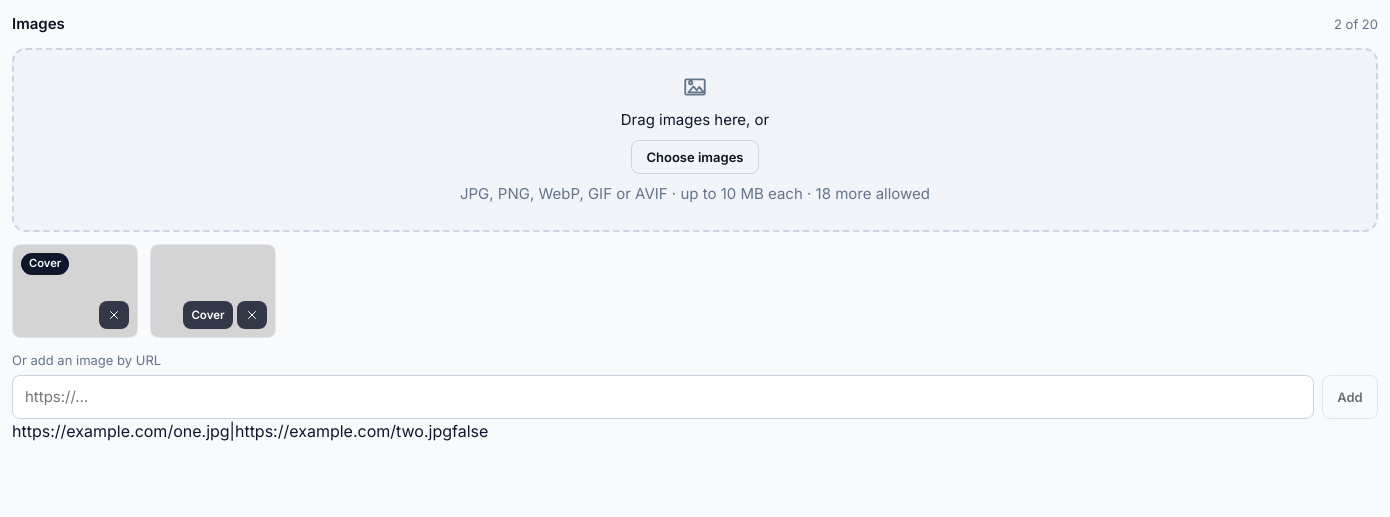
Test: ImageUploader › removes an image and refuses non-HTTPS URLs when adding by URL
This screenshot has width=1390, height=517.
Click the button named "Remove image 1" at (114, 315), box [99,301,129,329]
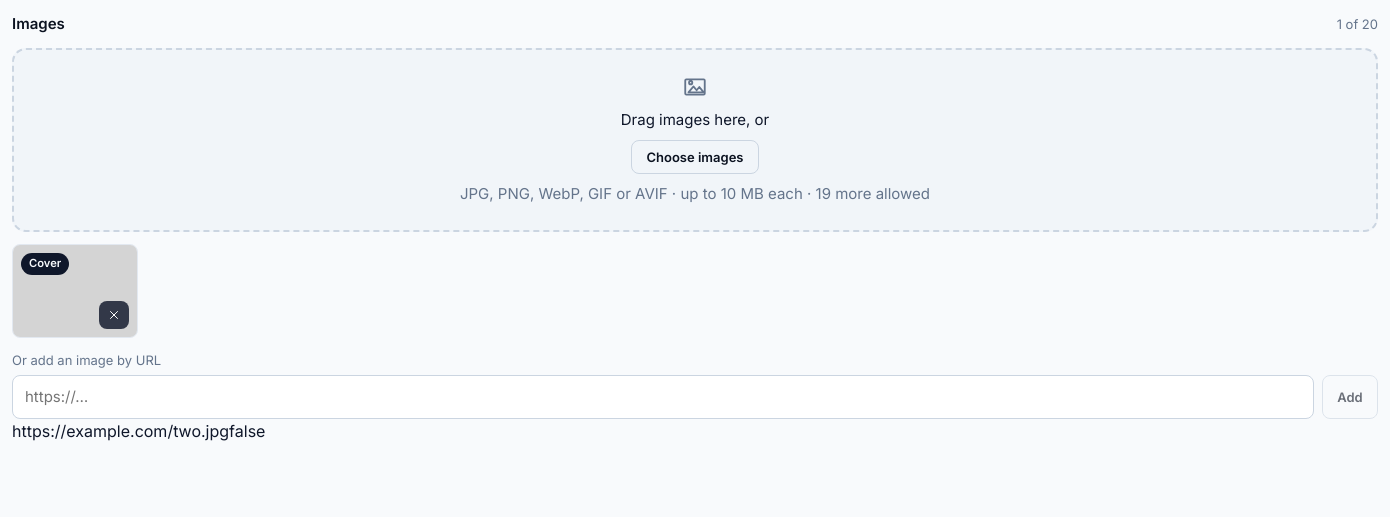
Check: the text with test id "urls" reads "https://example.com/two.jpg", box [12,421,229,441]
Type "http://insecure.test/x.jpg" into the field labelled "Or add an image by URL" at (663, 397), box [12,375,1314,419]
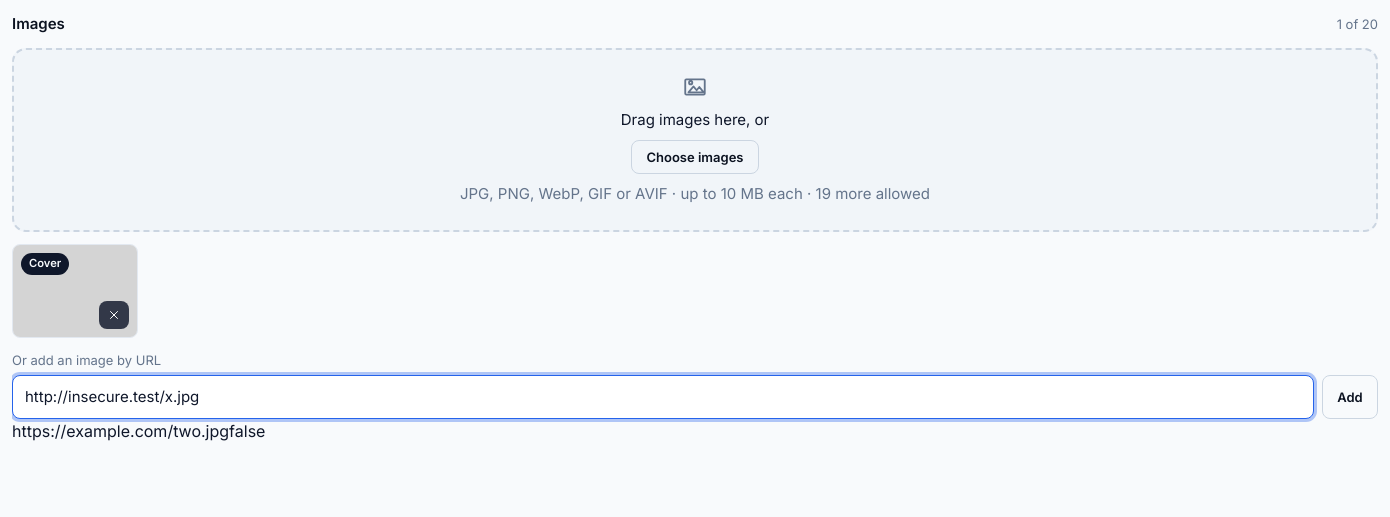
Click the button "Add" at (1350, 397), box [1322,375,1378,419]
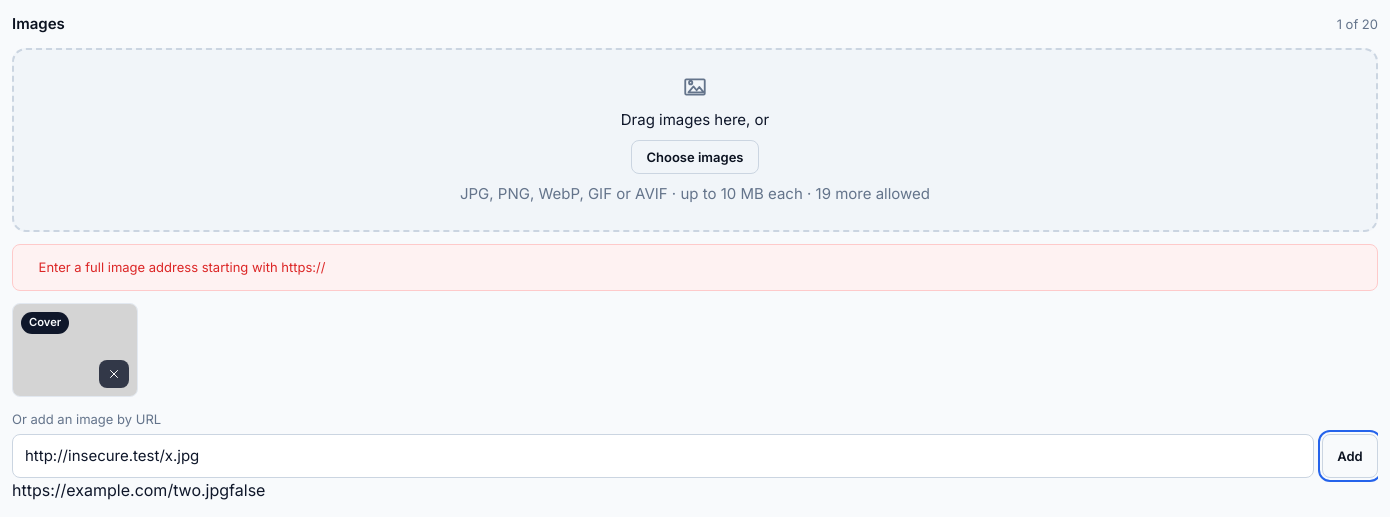
Check: the text with test id "urls" reads "https://example.com/two.jpg", box [12,480,229,500]
Check: the list item "Enter a full image address starting with https://" is shown, box [39,259,326,275]
